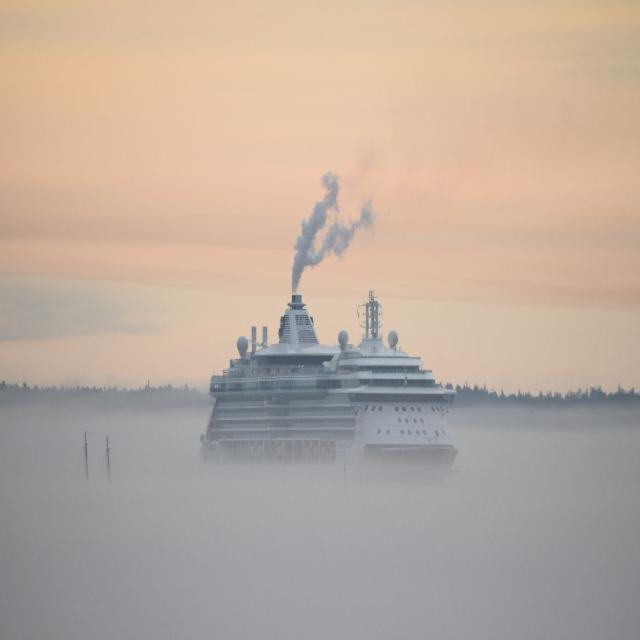passenger ship: (200, 290, 460, 484)
